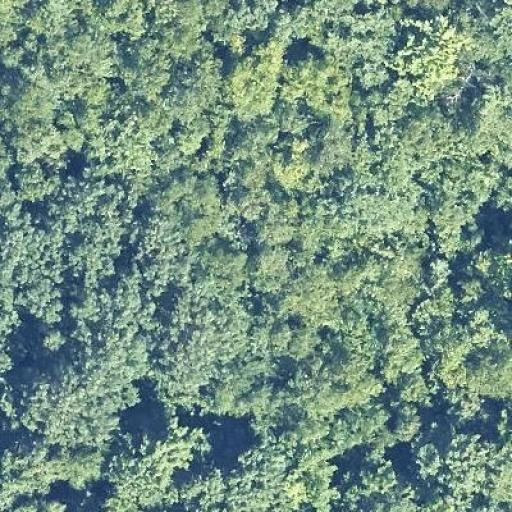tree-top: (425, 254, 512, 396), (95, 418, 215, 507), (163, 288, 248, 393), (80, 288, 157, 400), (389, 8, 474, 106), (15, 371, 127, 444), (216, 445, 327, 512), (59, 183, 129, 287), (287, 343, 384, 416), (375, 102, 467, 178), (33, 0, 117, 78), (0, 221, 70, 313), (154, 164, 227, 244), (228, 32, 292, 122), (0, 445, 100, 498), (73, 122, 159, 182), (347, 192, 433, 252), (0, 93, 67, 164), (430, 426, 494, 498), (280, 270, 350, 335), (115, 36, 179, 100), (286, 52, 350, 116), (163, 56, 223, 122), (236, 242, 304, 297), (474, 79, 512, 173), (298, 112, 356, 172), (11, 156, 59, 211), (354, 444, 406, 494), (268, 150, 318, 198), (381, 330, 424, 384), (0, 0, 34, 67), (384, 396, 426, 441), (37, 320, 71, 358)
